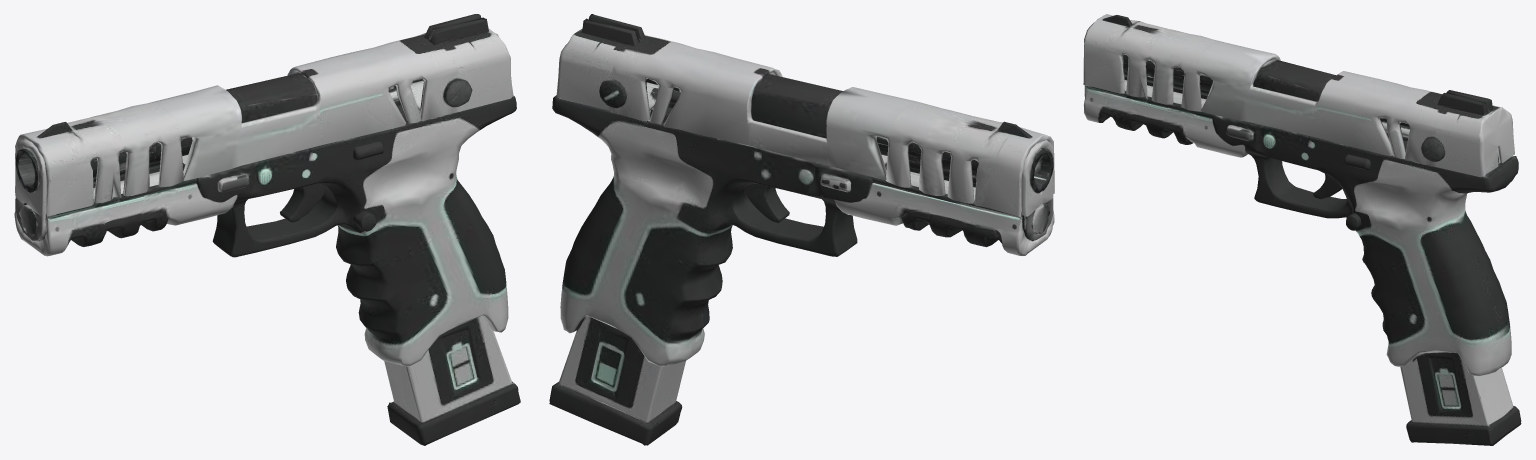
The model's file is sidearm-pistol.glb.
The picture shows the model from 3 angles, left to right: view 1: azimuth 30°, elevation 25°; view 2: azimuth 150°, elevation 25°; view 3: azimuth 330°, elevation 25°; orthographic projection. The views are drawn at different scales.
Parts seen in each view (by area): view 1: mesh_node; view 2: mesh_node; view 3: mesh_node.
Boxes of the visible parts, x1=… form: mesh_node: x1=14, y1=14, x2=520, y2=445; mesh_node: x1=549, y1=14, x2=1054, y2=445; mesh_node: x1=1083, y1=14, x2=1521, y2=445.
Size of the model in its own units: 0.3 by 0.2414 by 0.0482.
1 material, 1 textured.
